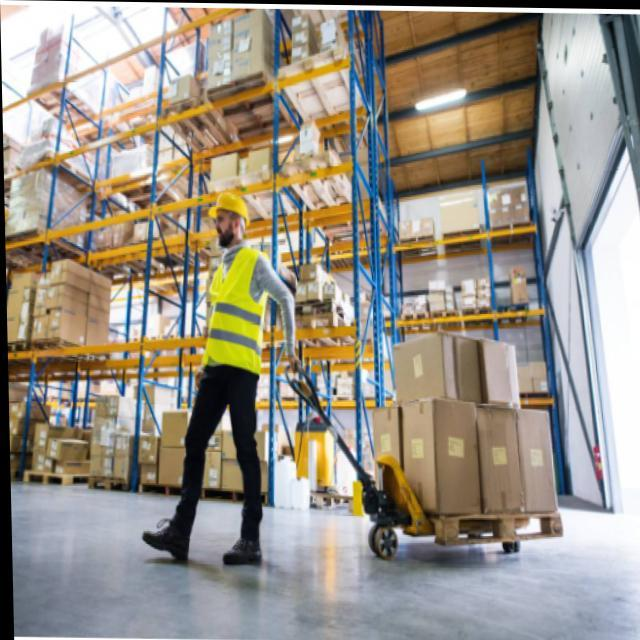hard_hat: (205, 188, 252, 243)
shoes: (137, 504, 268, 571)
vest: (199, 242, 276, 379)
